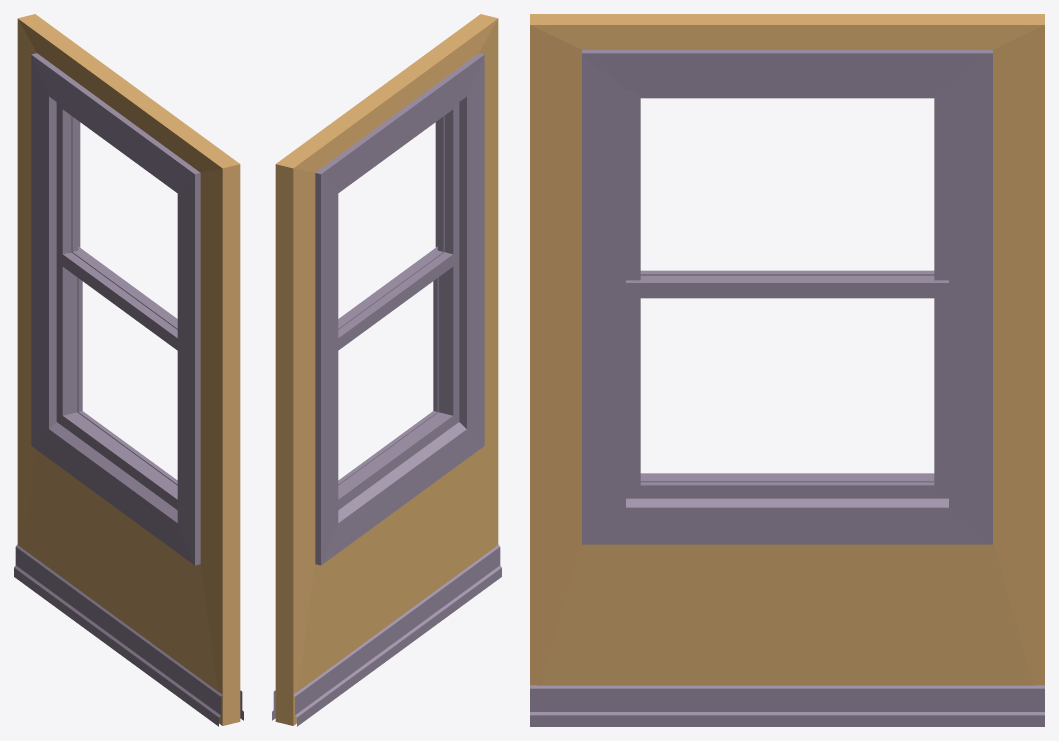
The model's file is Wall Window.fbx.
3 views of the same model, side by side, from view 1: azimuth 30°, elevation 25°; view 2: azimuth 150°, elevation 25°; view 3: azimuth 270°, elevation 25° (orthographic). The views are drawn at different scales.
Parts seen in each view (by area): view 1: Wall Window; view 2: Wall Window; view 3: Wall Window.
Boxes of the visible parts, x1,y1,x2,y2 form: Wall Window: [14, 14, 243, 726]; Wall Window: [272, 14, 501, 726]; Wall Window: [530, 14, 1044, 726].
Size of the model in its own units: 0.1796 by 3 by 2.
